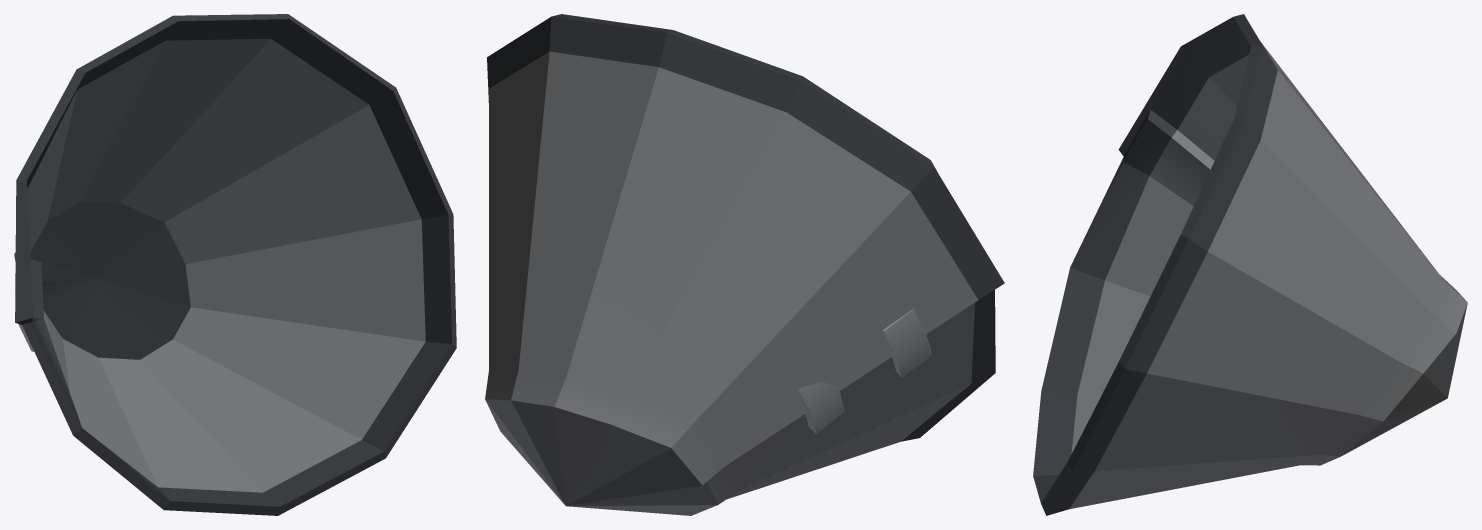
File: SM_Chr_Attach_HeadCone_Small_01.fbx
3 views of the same model, side by side, from view 1: azimuth 30°, elevation 25°; view 2: azimuth 150°, elevation 25°; view 3: azimuth 270°, elevation 25° (orthographic). The views are drawn at different scales.
Parts seen in each view (by area): view 1: SM_Chr_Attach_HeadCone_Small_01; view 2: SM_Chr_Attach_HeadCone_Small_01; view 3: SM_Chr_Attach_HeadCone_Small_01.
Part boxes in pixels (left/top/right/bottom): SM_Chr_Attach_HeadCone_Small_01: left=14, top=14, right=456, bottom=515; SM_Chr_Attach_HeadCone_Small_01: left=485, top=14, right=1004, bottom=515; SM_Chr_Attach_HeadCone_Small_01: left=1033, top=14, right=1467, bottom=515.
Size of the model in its own units: 45.38 by 41.81 by 37.18.
